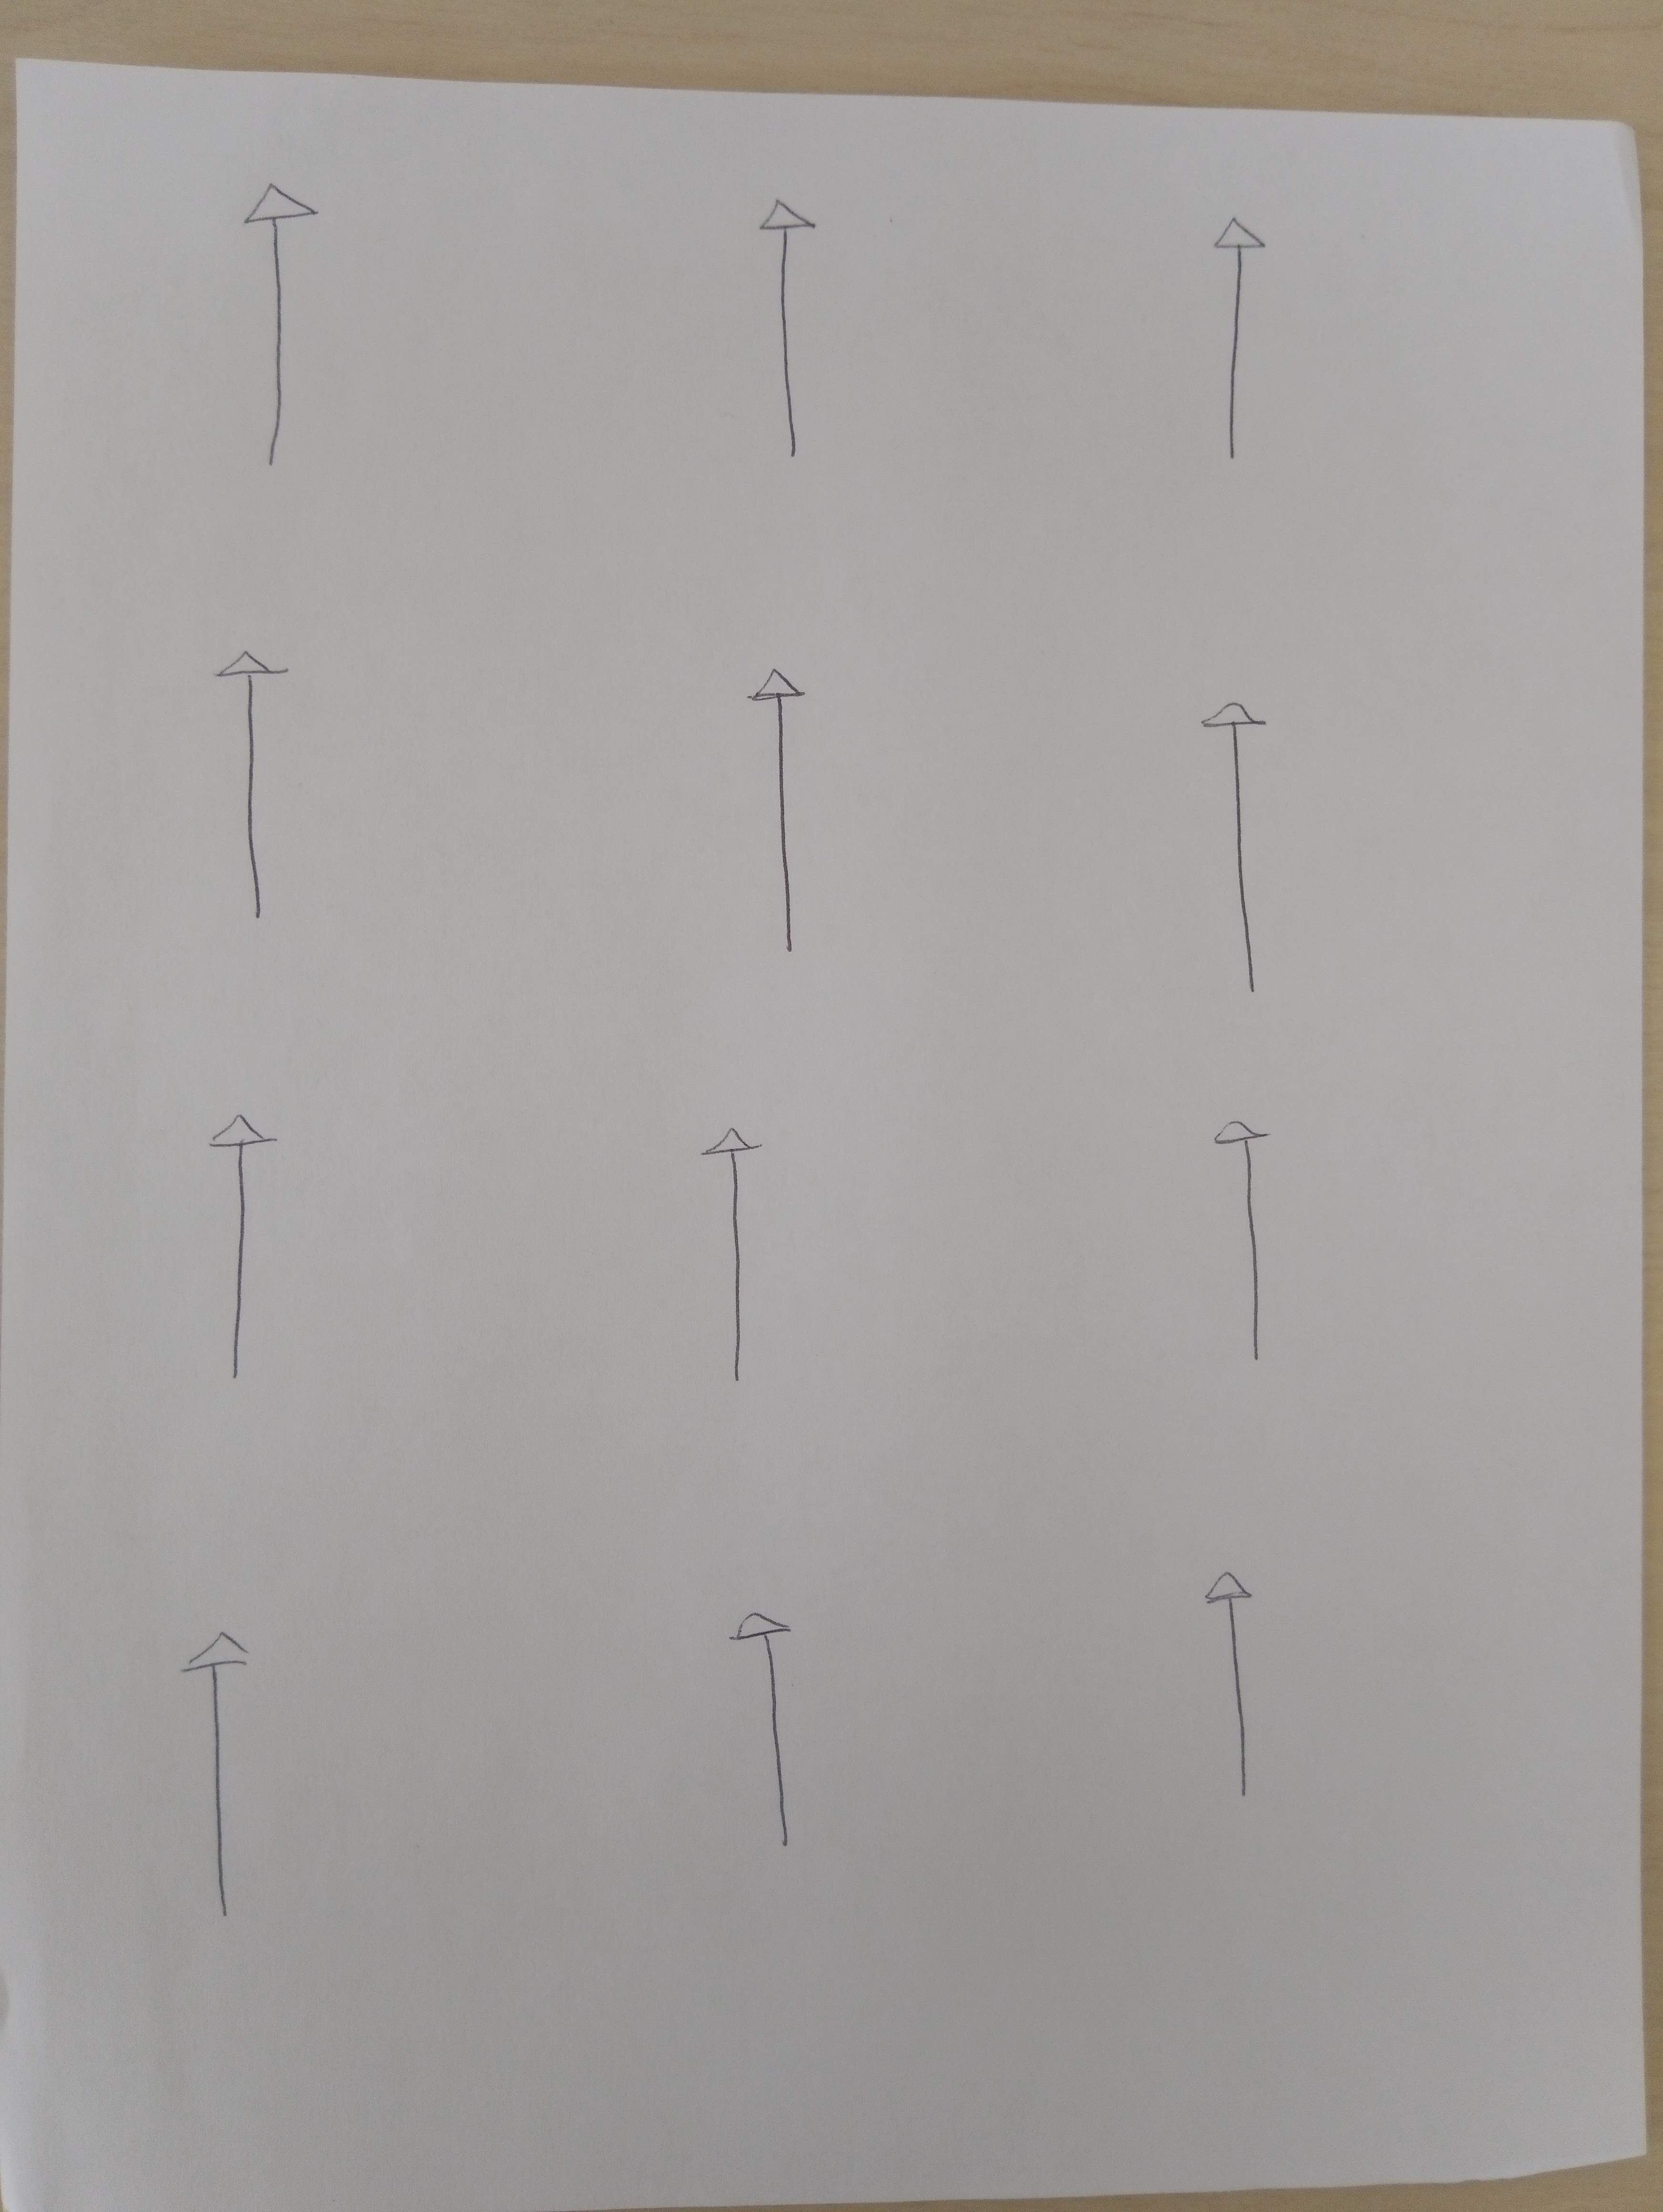arrow_line_up: (159, 1620, 276, 1933), (185, 639, 306, 931), (687, 1123, 804, 1414), (1195, 1112, 1319, 1386), (728, 651, 838, 953), (1186, 679, 1287, 1000), (232, 178, 328, 470), (748, 182, 835, 499), (728, 1599, 823, 1856), (217, 1107, 286, 1391), (1205, 1566, 1284, 1798), (1211, 213, 1275, 454)
